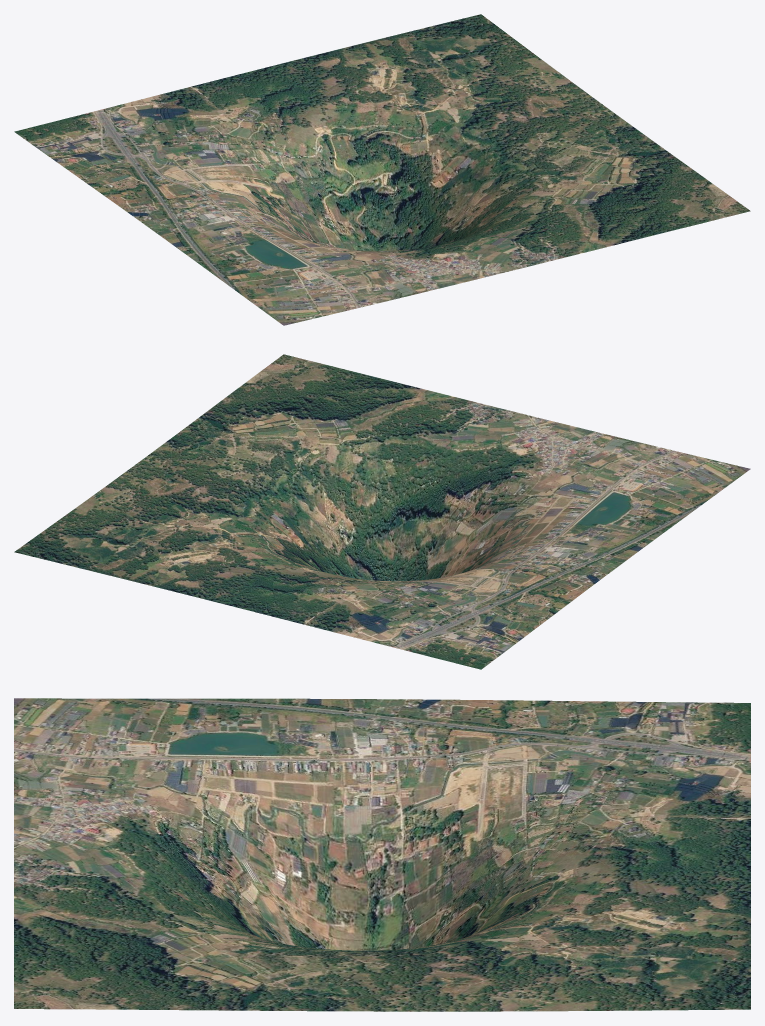
Rendered from terrain_real_T_E01_S05.glb.
3 renders of one model, top to bottom at view 1: azimuth 30°, elevation 25°; view 2: azimuth 150°, elevation 25°; view 3: azimuth 270°, elevation 25°, orthographic. The views are drawn at different scales.
Visible parts, largest first — view 1: Terrain_Real_DEM_T_E01_S05; view 2: Terrain_Real_DEM_T_E01_S05; view 3: Terrain_Real_DEM_T_E01_S05.
Part boxes in pixels (x1,y1,x2,y2): Terrain_Real_DEM_T_E01_S05: [14, 14, 750, 325]; Terrain_Real_DEM_T_E01_S05: [14, 354, 750, 669]; Terrain_Real_DEM_T_E01_S05: [14, 698, 750, 1011].
Size of the model in its own units: 2000 by 401 by 2000.
Materials: 1 (1 with a texture image).
